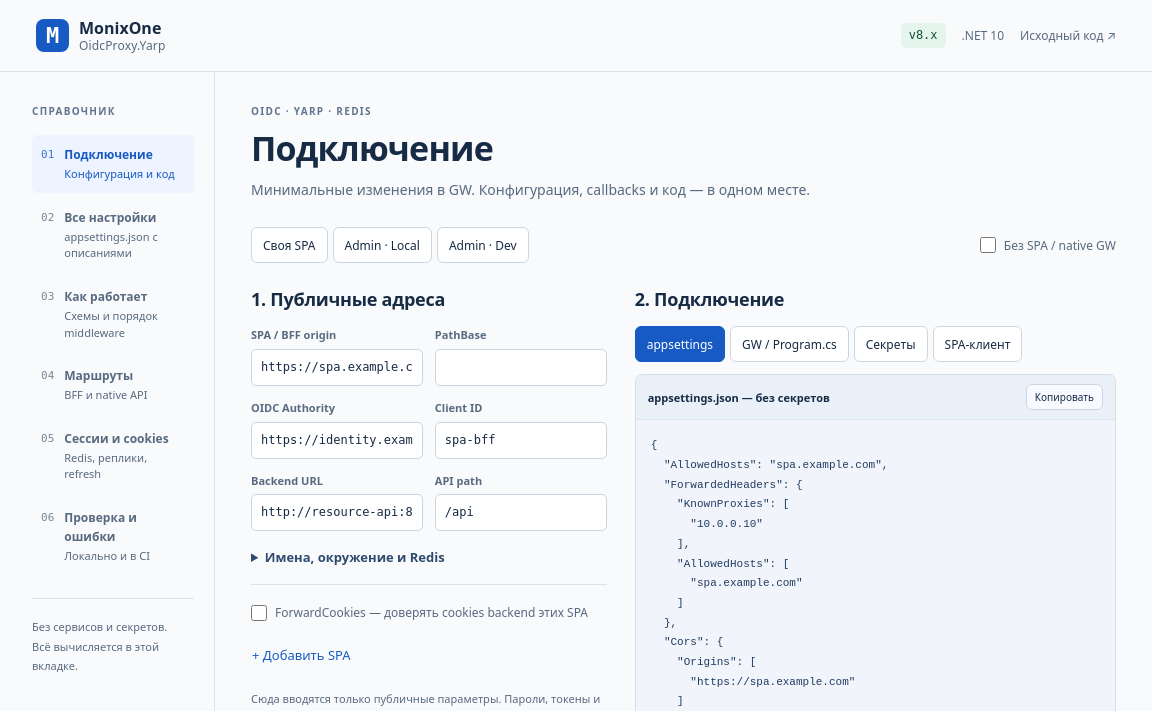
Scenario: updates the route inspector when CSRF and profile conditions change
Click the link "04 Маршруты BFF и native API": coordinates (94, 385) x1=41 y1=367 x2=148 y2=402
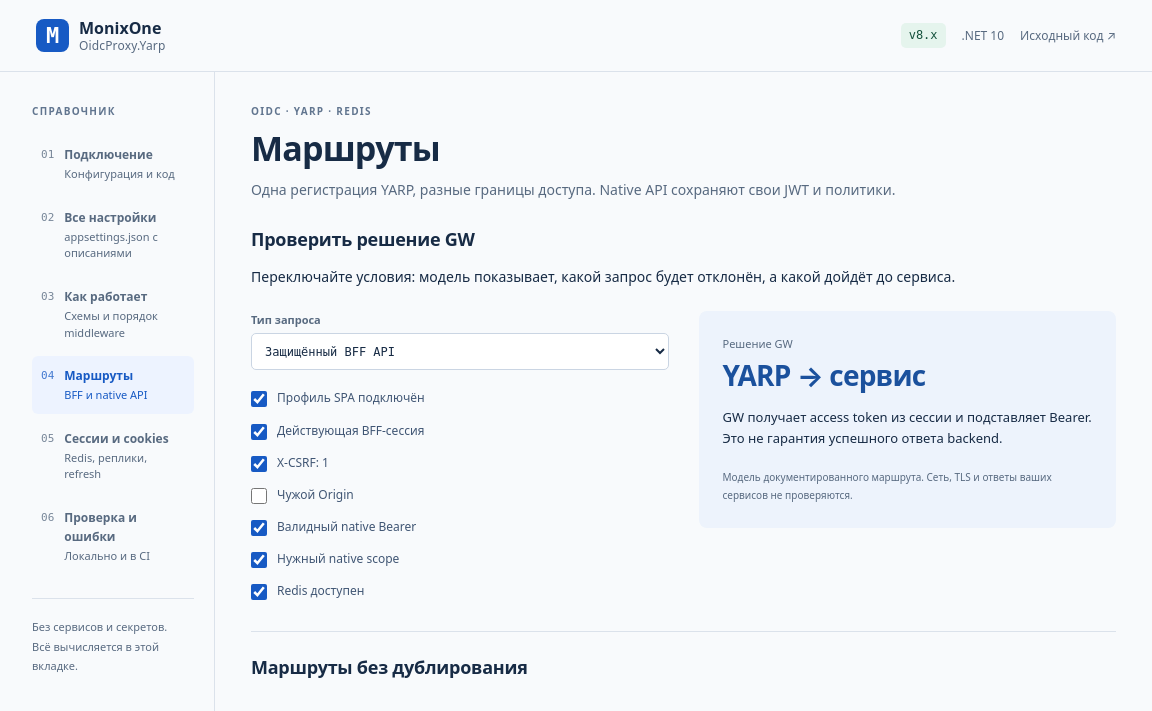
Check: the message shows "YARP → сервис", box x1=722 y1=356 x2=925 y2=394
Click the checkbox labelled "X-CSRF: 1": coordinates (259, 464) x1=251 y1=456 x2=267 y2=472
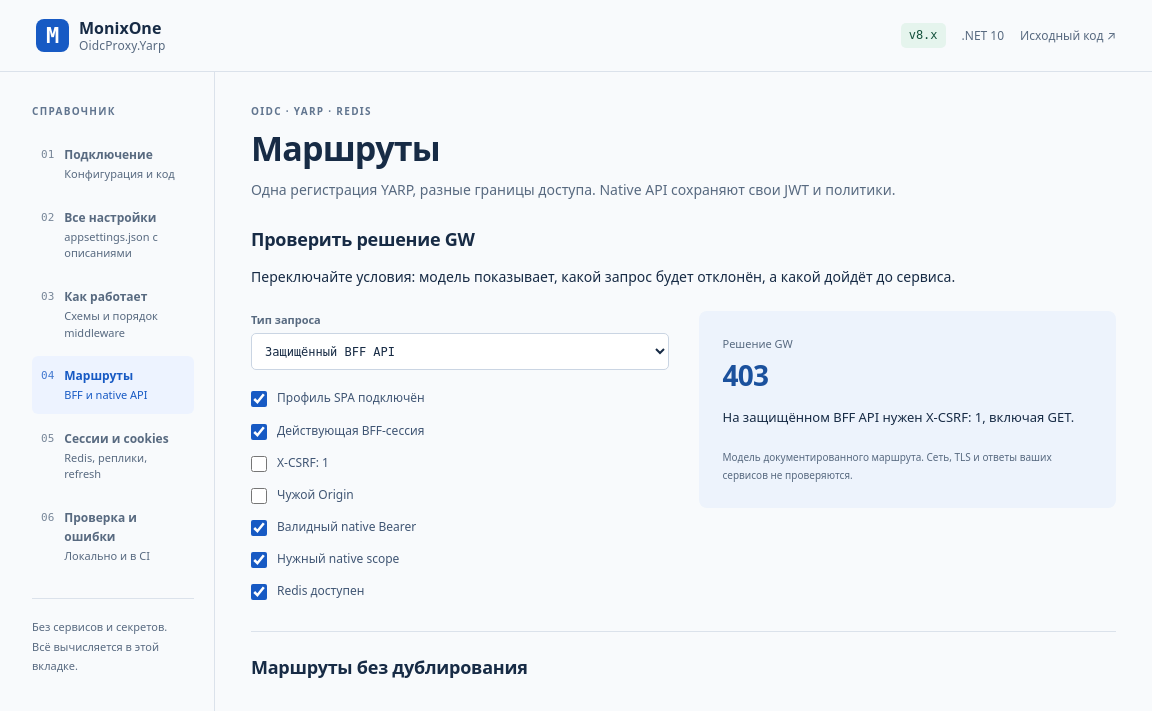
Check: the message shows "403", box x1=722 y1=356 x2=768 y2=394
Click the checkbox labelled "Профиль SPA подключён": coordinates (259, 399) x1=251 y1=391 x2=267 y2=407
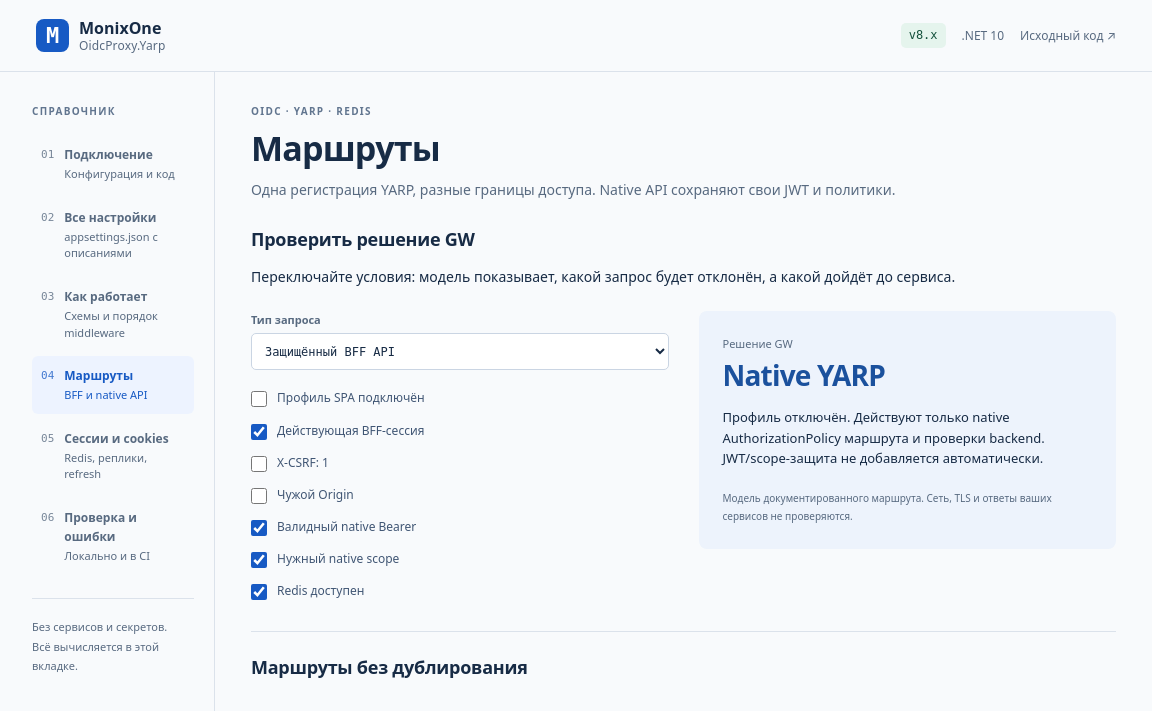
Check: the message shows "Native YARP", box x1=722 y1=356 x2=885 y2=394
